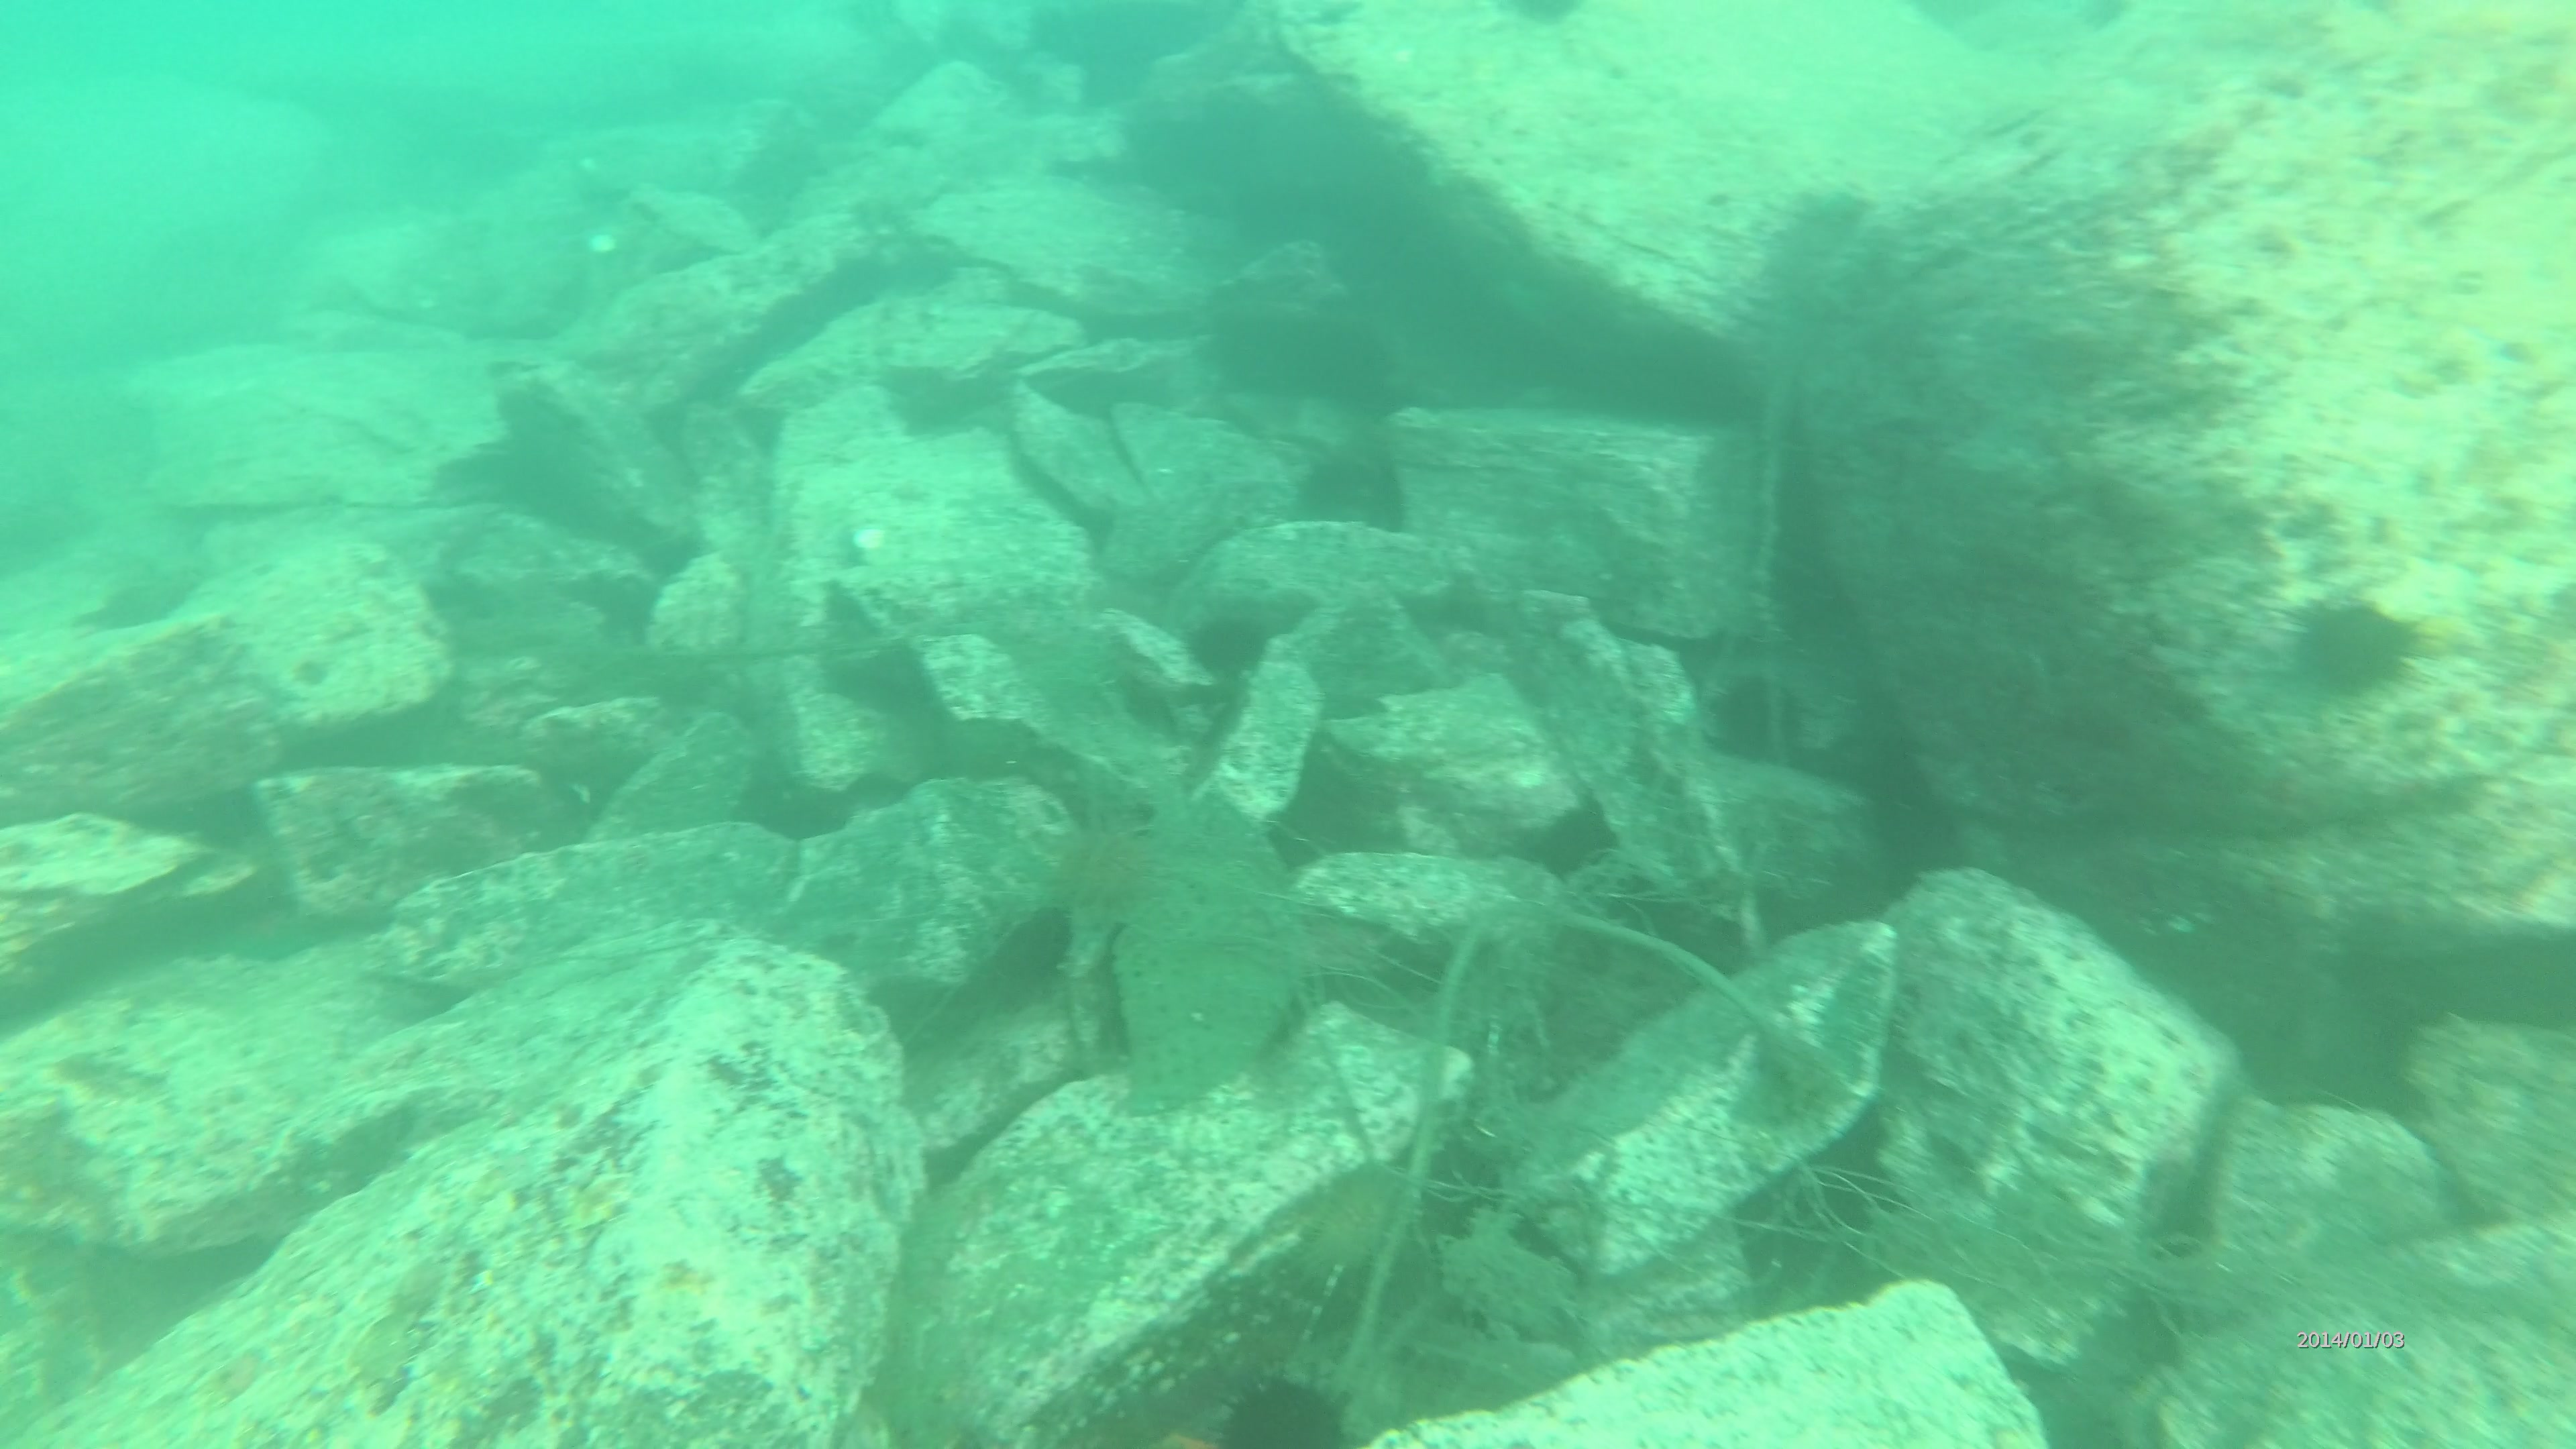echinus: (2298, 598, 2422, 701), (1215, 1376, 1350, 1449)
